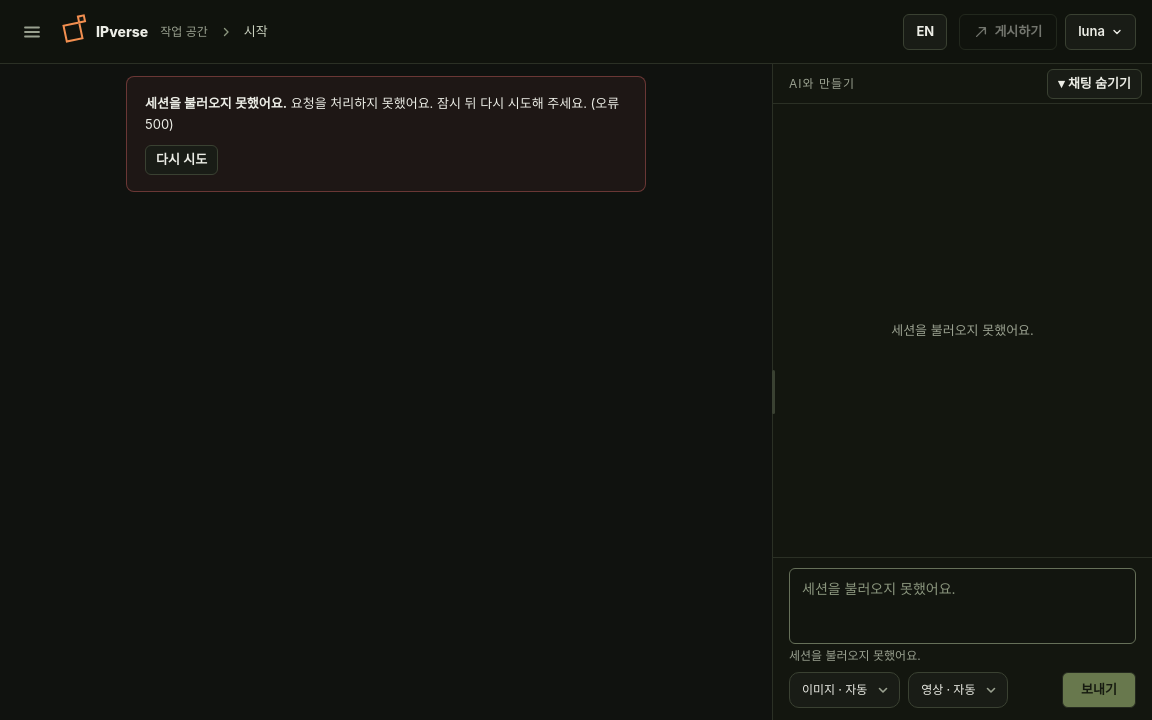
Scenario: the start screen can be reached from a session at any width (new finding 9) › a session that did not load can be left the same way
Expected: the message "세션을 불러오지 못했어요. 요청을 처리하지 못했어요. 잠시 뒤 다시 시도해 주세요. (오류 500) 다시 시도" is shown, [126,76,646,192]
What coordinates should you click on to do the following:
click the link with class "topbar-logo"
I would click on:
 (105, 31)
Its box is [62,21,148,42].
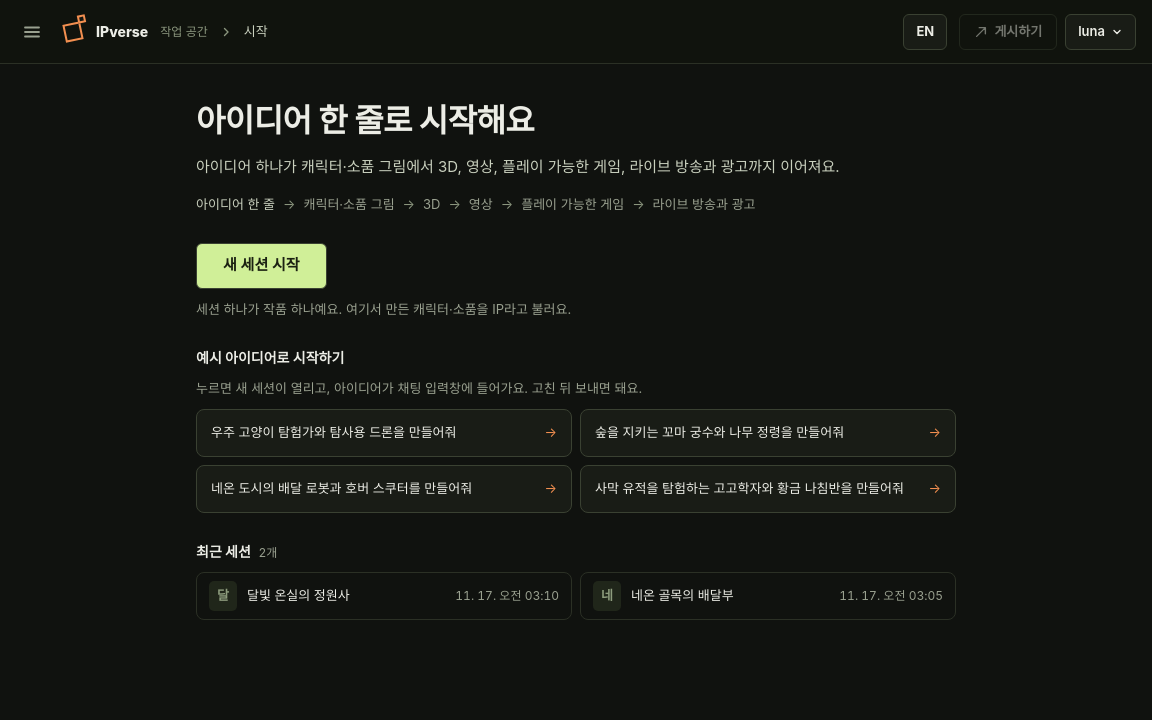
Expected: the heading "아이디어 한 줄로 시작해요" is shown, [196,101,534,140]
